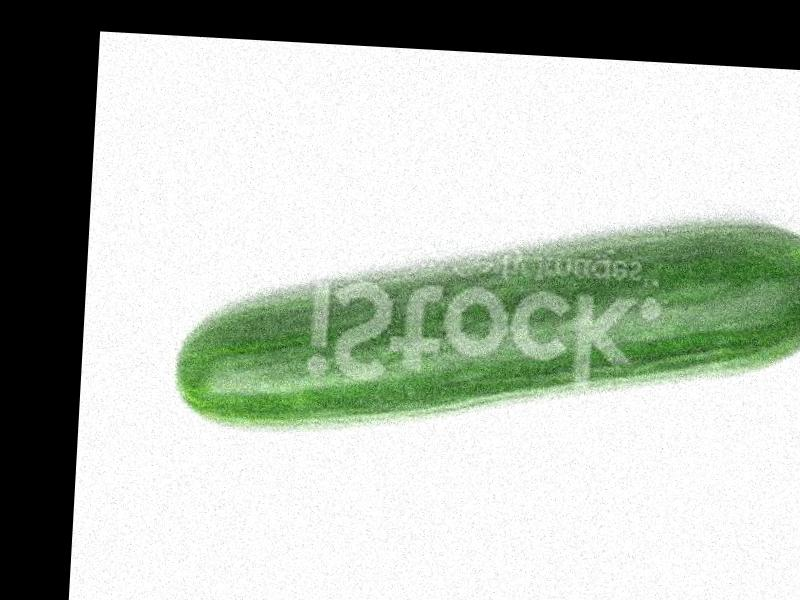Cucumber: (170, 194, 800, 460)
